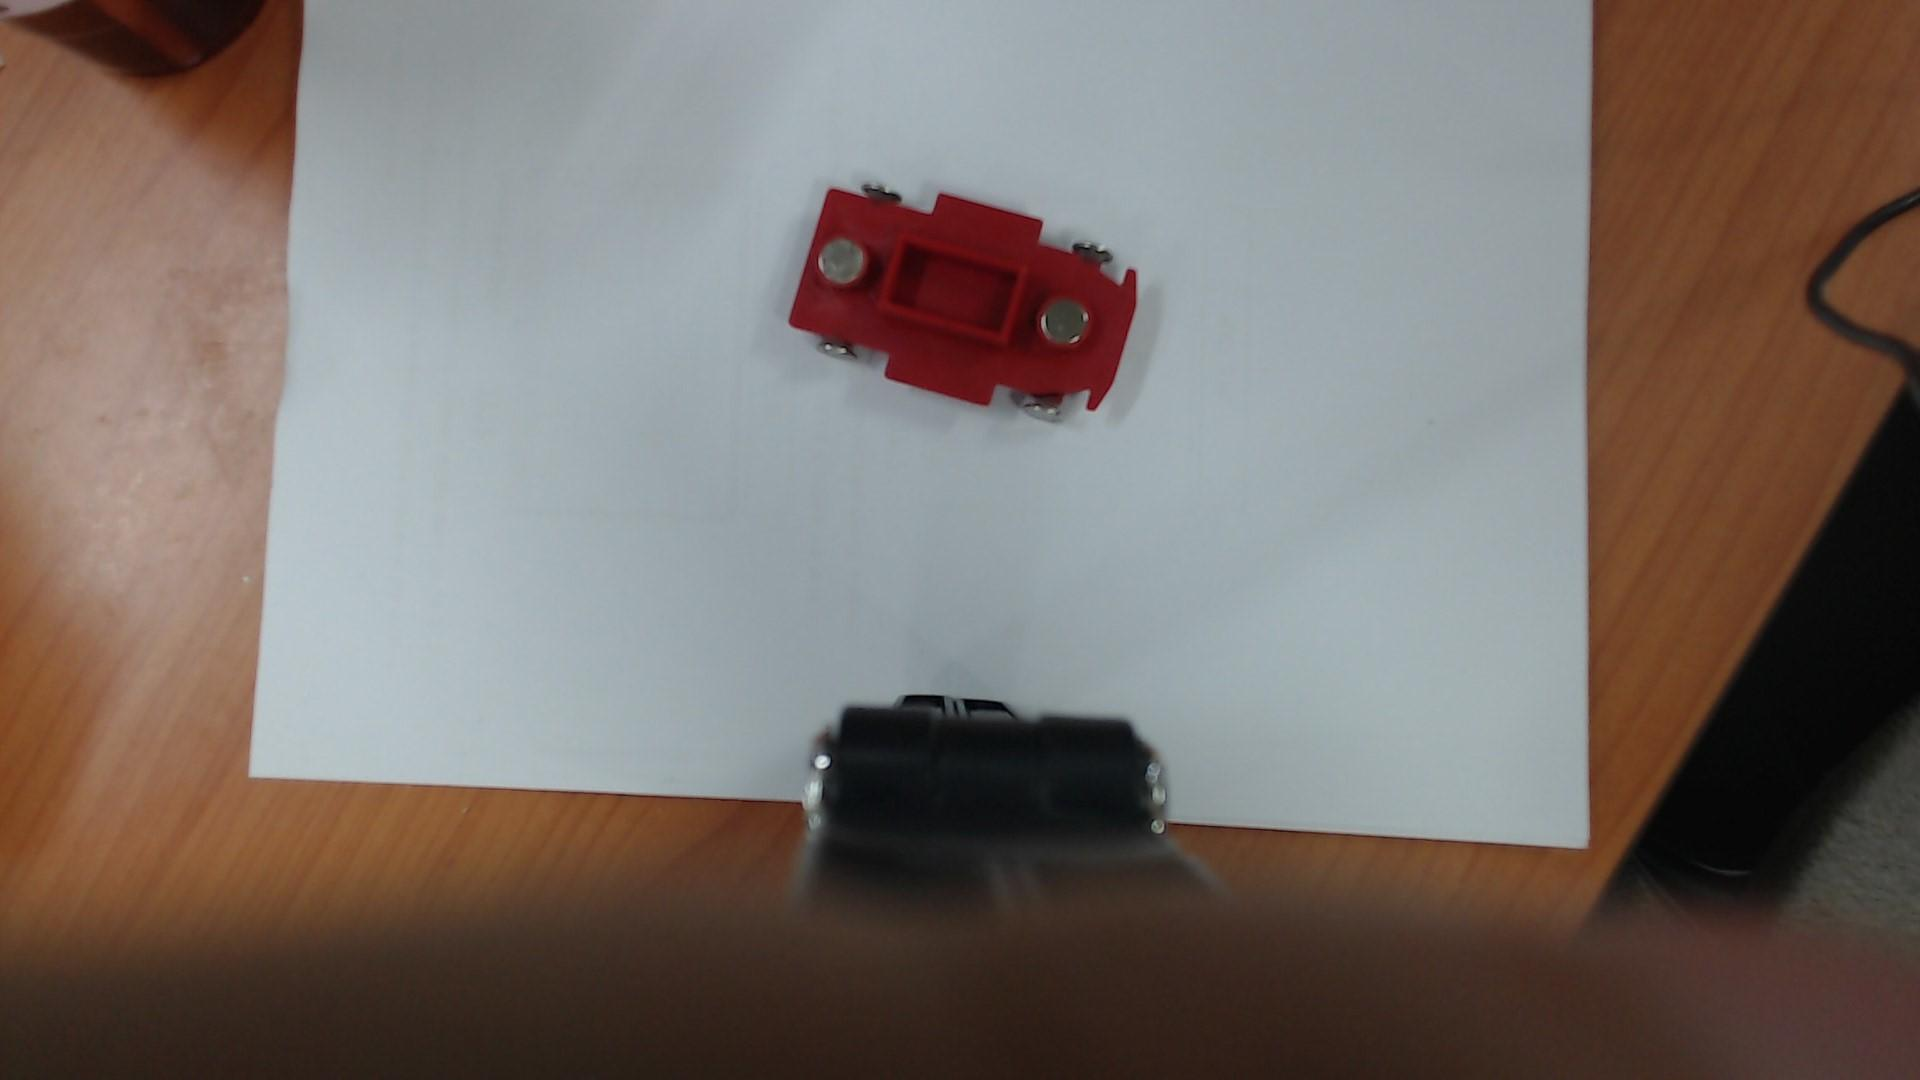lower_ok: (870, 226, 1030, 356)
